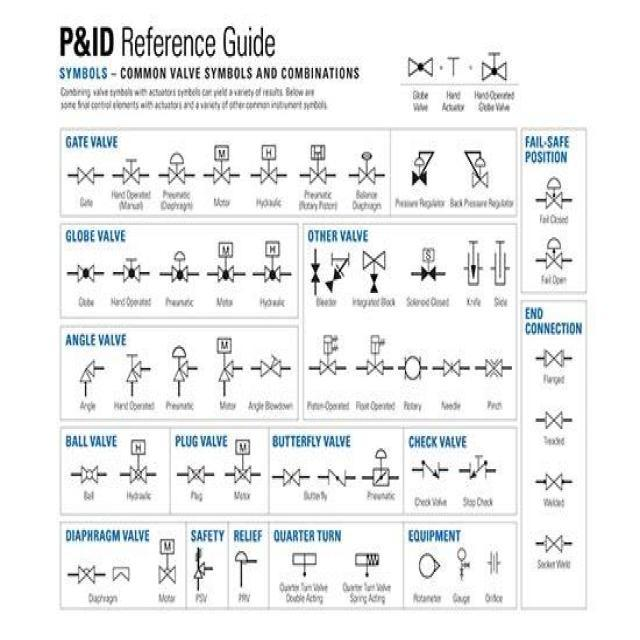Angle Blowdown: (249, 342, 288, 388)
Angle Valve: (77, 347, 96, 392)
BackPressure Regulator: (458, 144, 488, 190)
Balance Diaphragm Gate Valve: (349, 141, 379, 189)
Ball Valve: (77, 464, 100, 486)
Bleeder Valve: (322, 248, 358, 296), (306, 250, 320, 292)
Butterfly Valve: (322, 464, 353, 491), (278, 461, 304, 488)
Check Valve: (412, 455, 444, 482)
Diaphragm Valve: (71, 562, 100, 586), (110, 562, 132, 582)
Fail Closed Safe Position: (530, 172, 574, 207)
Fail Open Safe Position: (526, 228, 570, 274)
Float Operated Valve: (363, 332, 391, 381)
Gate Valve: (75, 164, 99, 193)
Gauge: (452, 546, 472, 584)
Globe Valve: (69, 260, 96, 284)
Hand Operated Angle Valve: (122, 349, 154, 386)
Hand Operated Gate Valve: (120, 152, 142, 188)
Hand Operated Globe Valve: (109, 250, 145, 282)
Hydraulic Operated Ball Valve: (128, 428, 150, 488)
Hydraulic Operated Gate Valve: (254, 137, 278, 185)
Hydraulic Operated Globe Valve: (256, 236, 284, 281)
Integrated Block Valve: (358, 249, 392, 297)
Knife Valve: (452, 236, 489, 290)
Motor Operated Angle Valve: (208, 331, 241, 391)
Motor Operated Diaphragm Valve: (154, 532, 178, 588)
Motor Operated Gate Valve: (207, 132, 235, 189)
Motor Operated Globe Valve: (203, 232, 234, 288)
Motor Operated Plug Valve: (230, 436, 254, 484)
Needle Valve: (434, 346, 472, 389)
Orifice: (479, 539, 508, 579)
PRV: (227, 548, 259, 590)
PSV: (190, 548, 214, 590)
Pinch Valve: (480, 339, 505, 385)
Piston Operated Valve: (310, 325, 346, 387)
Plug Valve: (183, 459, 214, 484)
Pneumatic-Diaphragm Angle Valve: (162, 340, 194, 390)
Pneumatic-Diaphragm Butterfly Valve: (368, 446, 393, 489)
Pneumatic-Diaphragm Gate Valve: (164, 148, 188, 186)
Pneumatic-Diaphragm Globe Valve: (160, 240, 194, 286)
Pressure Regulator: (404, 136, 438, 185)
Quarter Turn Valve Double Acting: (288, 550, 322, 586)
Quarter Turn Valve Spring Acting: (346, 538, 384, 574)
Rotameter: (412, 548, 440, 584)
Rotary Piston-Pneumatic Gate Valve: (306, 142, 331, 187)
Slide Valve: (488, 229, 509, 286)
Solenoid Operated Gate Valve: (408, 234, 444, 284)
Stop Valve: (464, 452, 497, 486)
